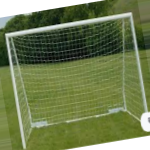goals: (4, 10, 149, 150)
